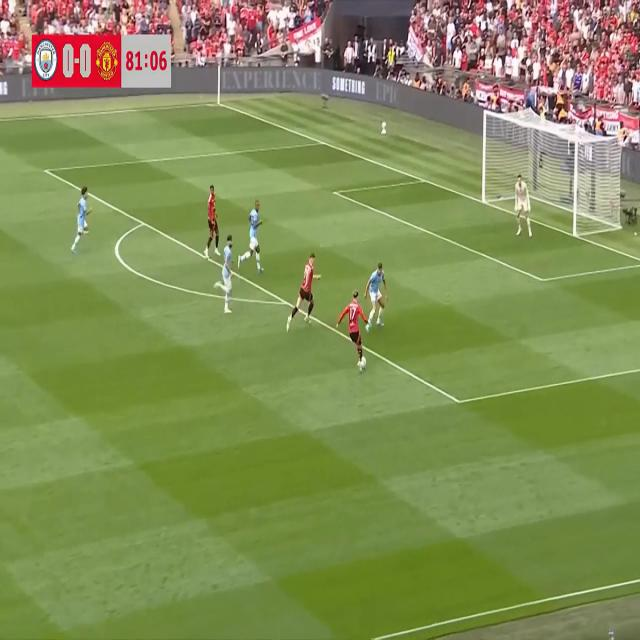ball: (356, 347, 370, 379)
goal_keeper: (511, 166, 536, 242)
players: (285, 249, 321, 340), (66, 175, 98, 264), (237, 196, 267, 280), (336, 288, 366, 372), (364, 253, 390, 341), (213, 226, 234, 318), (202, 182, 225, 263)
